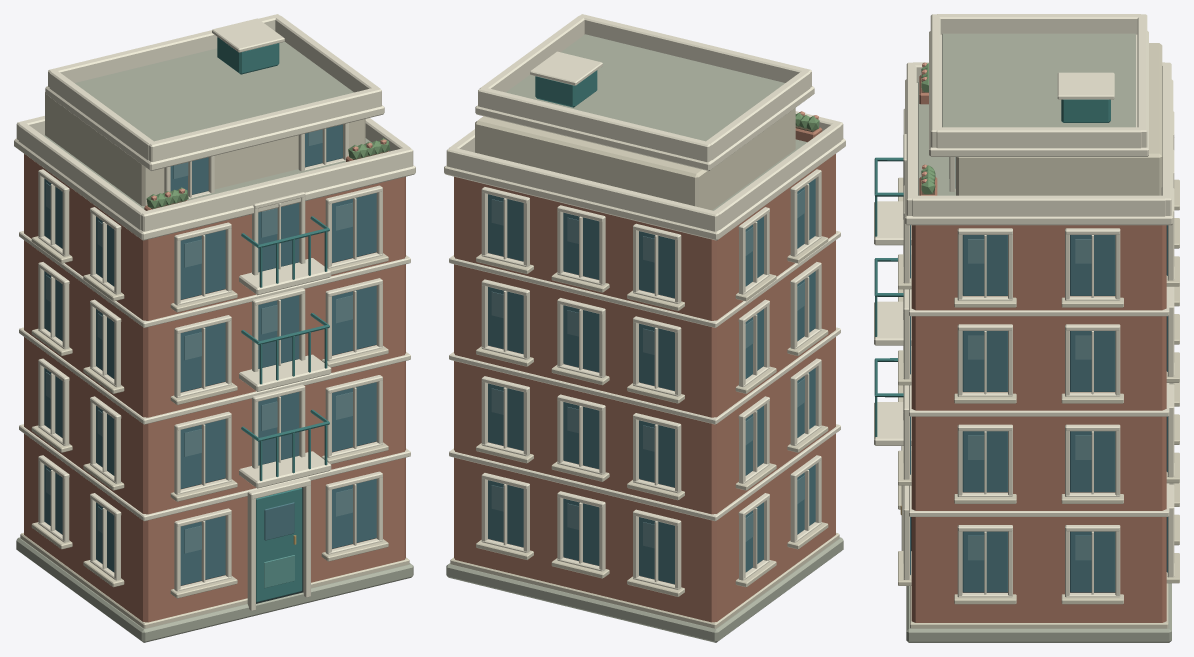
Rendered from building_terrace_apartments.glb.
3 views of the same model, side by side, from view 1: azimuth 30°, elevation 25°; view 2: azimuth 150°, elevation 25°; view 3: azimuth 270°, elevation 25° (orthographic). The views are drawn at different scales.
Parts seen in each view (by area): view 1: building_terrace_apartments; view 2: building_terrace_apartments; view 3: building_terrace_apartments.
Boxes of the visible parts, left/top/right/bottom form: building_terrace_apartments: left=14, top=14, right=415, bottom=642; building_terrace_apartments: left=444, top=14, right=845, bottom=642; building_terrace_apartments: left=874, top=14, right=1179, bottom=642.
Bounding box in the file's own units: 5.1 × 8.55 × 4.56.
